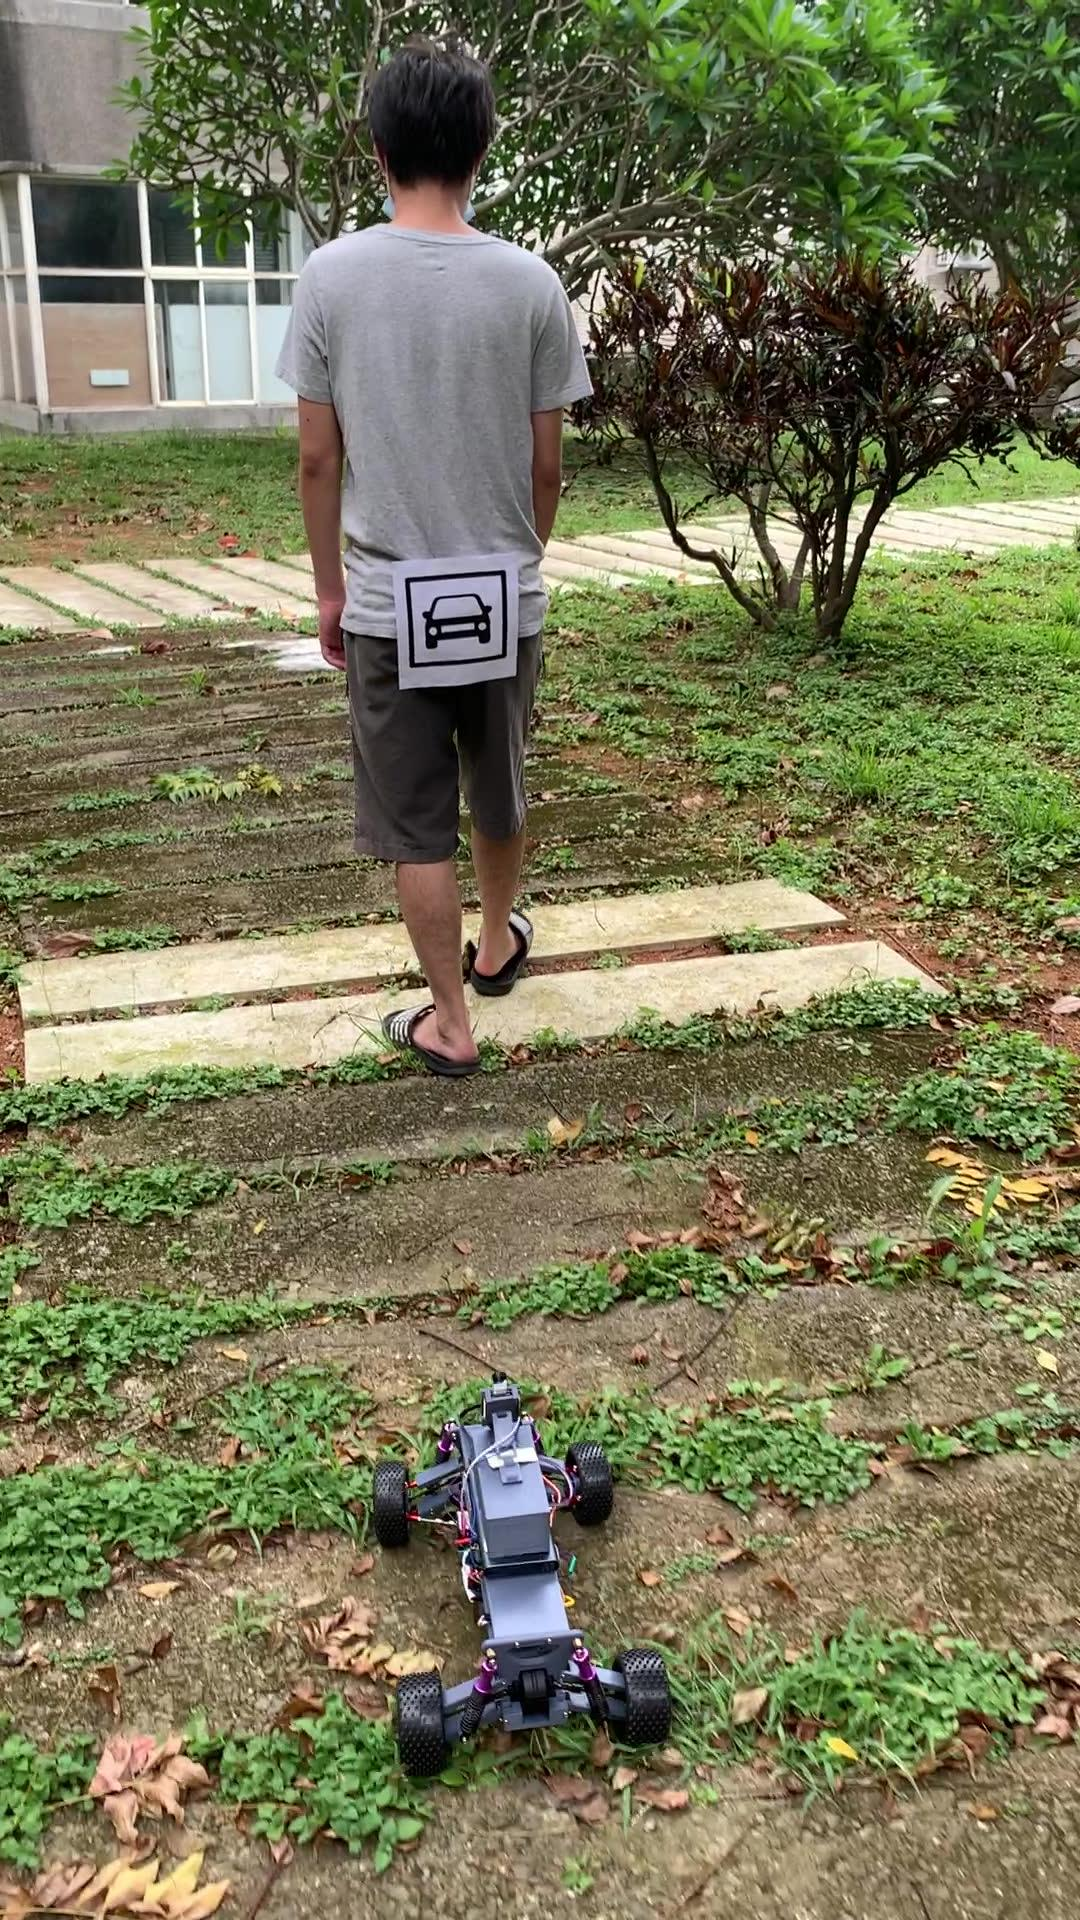car_img: (405, 568, 508, 669)
